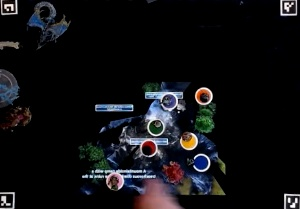blue: (191, 153, 211, 175)
green: (146, 117, 165, 137)
orange: (194, 85, 214, 106)
pink: (101, 172, 124, 190)
red: (139, 138, 157, 157)
violet: (157, 92, 180, 112)
yellow: (180, 131, 202, 149)
